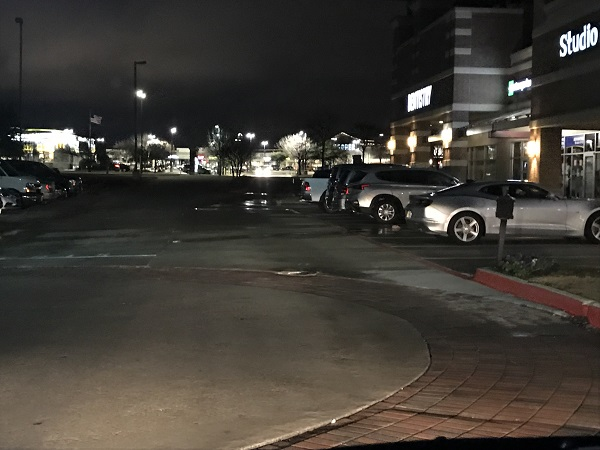car: (405, 175, 600, 248), (347, 163, 461, 221), (326, 162, 410, 213), (18, 156, 83, 192), (25, 173, 55, 200)
truck: (290, 167, 339, 204), (1, 168, 43, 208)
